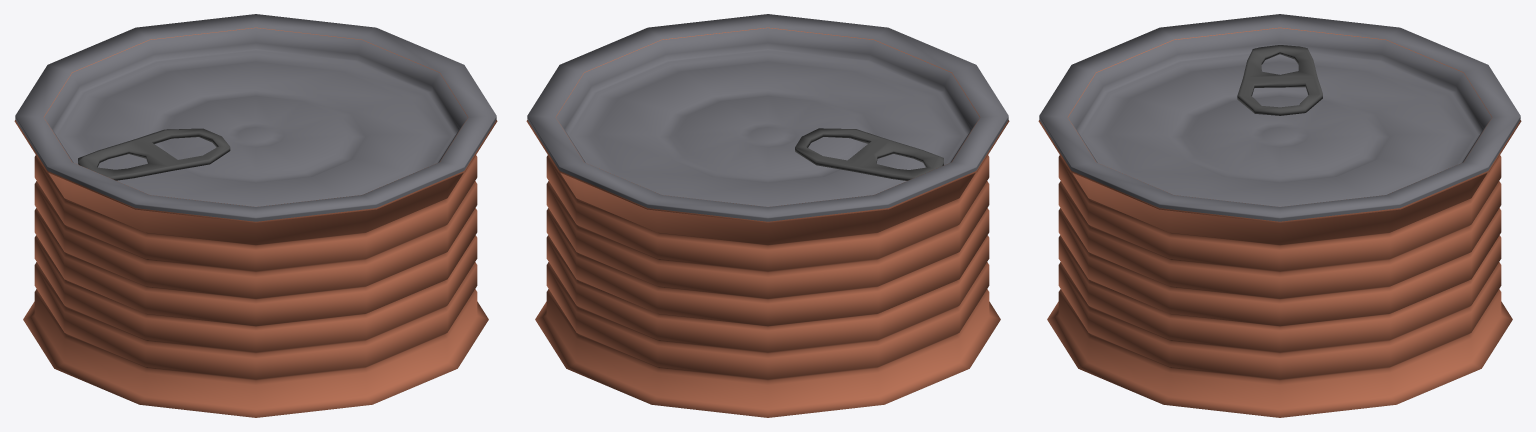
The model's file is LataLaranja.fbx.
3 renders of one model, left to right at view 1: azimuth 30°, elevation 25°; view 2: azimuth 150°, elevation 25°; view 3: azimuth 270°, elevation 25°, orthographic.
Visible parts, largest first — view 1: Lata2.retopo, Tampa2.retopo; view 2: Lata2.retopo, Tampa2.retopo; view 3: Lata2.retopo, Tampa2.retopo.
Part boxes in pixels (<box>): Lata2.retopo: <box>14,27,497,417</box>; Tampa2.retopo: <box>15,14,496,221</box>; Lata2.retopo: <box>526,27,1009,417</box>; Tampa2.retopo: <box>527,14,1008,221</box>; Lata2.retopo: <box>1038,27,1521,417</box>; Tampa2.retopo: <box>1039,14,1520,221</box>.
Size of the model in its own units: 126 by 58.86 by 126.
